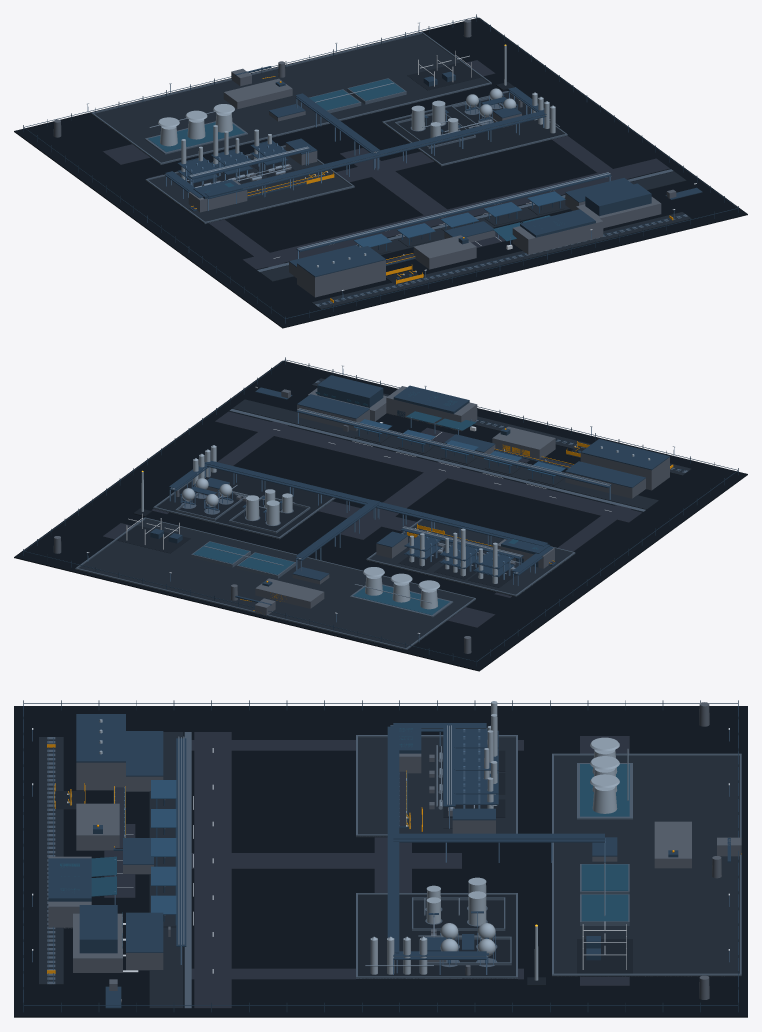
File: chunk-sector-northwest-static.detailed.glb
3 views of the same model, one above another, from view 1: azimuth 30°, elevation 25°; view 2: azimuth 150°, elevation 25°; view 3: azimuth 270°, elevation 25° (orthographic). The views are drawn at different scales.
Parts seen in each view (by area): view 1: dtmesh:0:1 (×4), dtmesh:0:0 (×10), dtmesh:1:0; view 2: dtmesh:0:1 (×4), dtmesh:0:0 (×10), dtmesh:1:0; view 3: dtmesh:0:1 (×6), dtmesh:0:0 (×10), dtmesh:1:0.
Part boxes in pixels (box(x1,y1,x2,y2)): dtmesh:0:1 (×4): box(14, 17, 747, 328); dtmesh:0:0 (×10): box(23, 14, 738, 323); dtmesh:1:0: box(160, 88, 555, 179); dtmesh:0:1 (×4): box(14, 360, 747, 671); dtmesh:0:0 (×10): box(23, 357, 738, 666); dtmesh:1:0: box(182, 445, 497, 609); dtmesh:0:1 (×6): box(14, 706, 747, 1017); dtmesh:0:0 (×10): box(23, 700, 741, 1012); dtmesh:1:0: box(370, 701, 617, 974).
Bounding box in the file's own units: 236 × 22.94 × 236.
